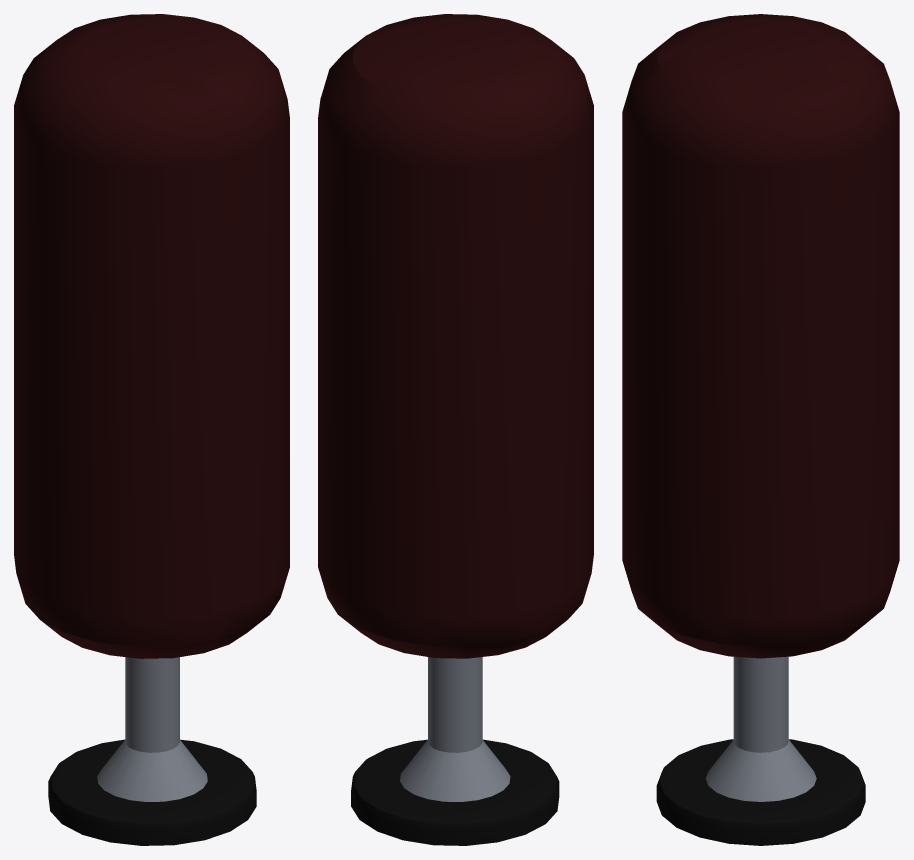
Rendered from Sports_Punching Bag.fbx.
The picture shows the model from 3 angles, left to right: view 1: azimuth 30°, elevation 25°; view 2: azimuth 150°, elevation 25°; view 3: azimuth 270°, elevation 25°; orthographic projection.
Visible parts, largest first — view 1: pCylinder56; view 2: pCylinder56; view 3: pCylinder56.
Boxes of the visible parts, x1=… form: pCylinder56: x1=14, y1=14, x2=289, y2=845; pCylinder56: x1=318, y1=14, x2=593, y2=845; pCylinder56: x1=622, y1=14, x2=899, y2=845.
Bounding box in the file's own units: 1.4 × 4.2 × 1.4.
